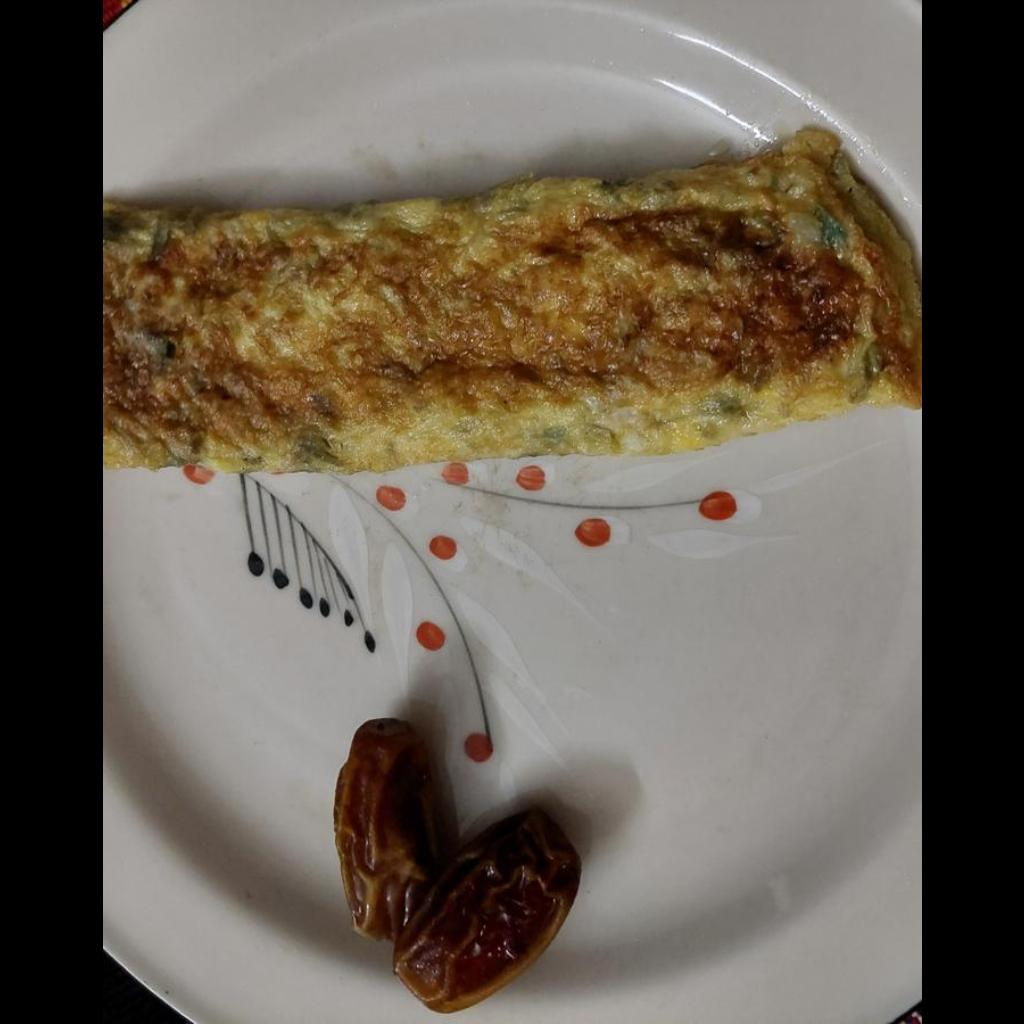dates: (327, 717, 584, 1016)
egg-poached: (103, 128, 920, 469)
